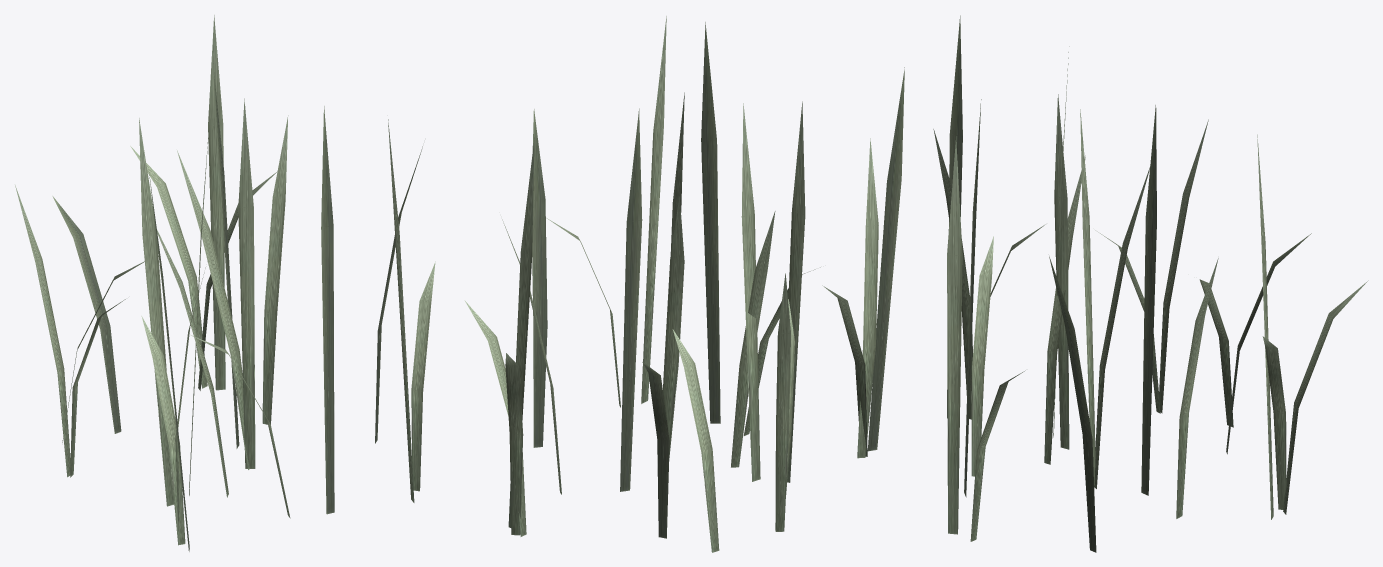
Rendered from Grass - Grass2 3-BH0jMpsd.glb.
The picture shows the model from 3 angles, left to right: view 1: azimuth 30°, elevation 25°; view 2: azimuth 150°, elevation 25°; view 3: azimuth 270°, elevation 25°; orthographic projection. The views are drawn at different scales.
Parts seen in each view (by area): view 1: Grass2_3_LOD0; view 2: Grass2_3_LOD0; view 3: Grass2_3_LOD0.
Part boxes in pixels (left/top/right/bottom): Grass2_3_LOD0: left=15, top=15, right=435, bottom=551; Grass2_3_LOD0: left=464, top=16, right=904, bottom=552; Grass2_3_LOD0: left=933, top=15, right=1368, bottom=552.
Bounding box in the file's own units: 0.5054 × 0.5943 × 0.5835.
1 material, 1 textured.
